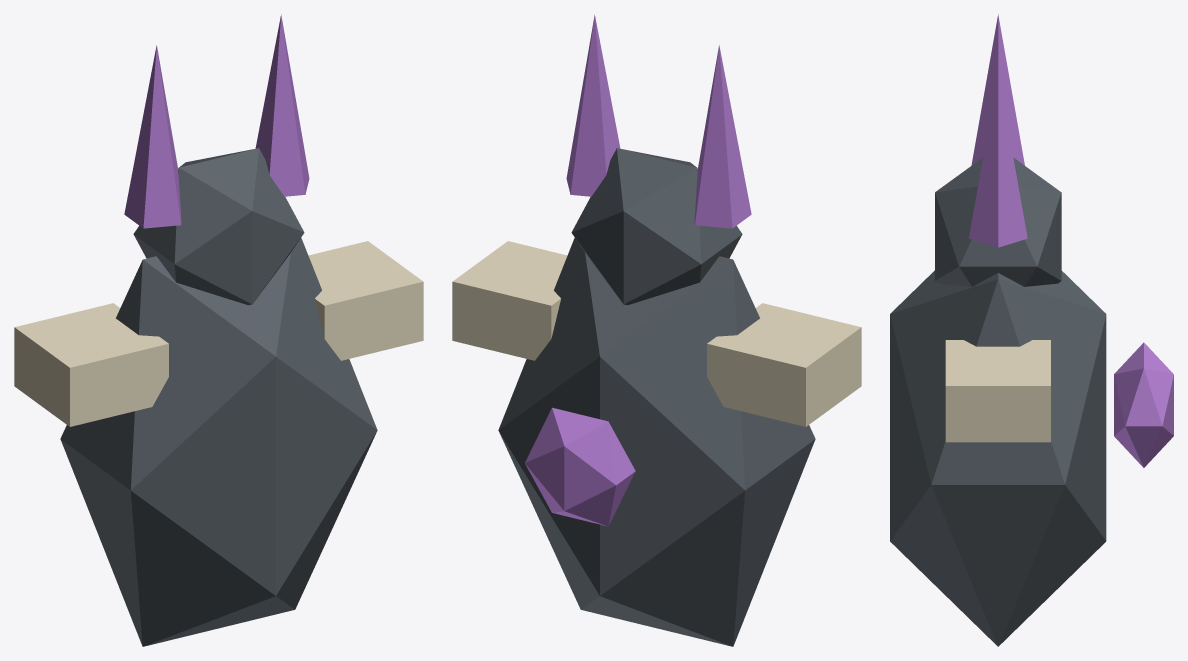
Rendered from enemy_elite.glb.
3 renders of one model, left to right at view 1: azimuth 30°, elevation 25°; view 2: azimuth 150°, elevation 25°; view 3: azimuth 270°, elevation 25°, orthographic. The views are drawn at different scales.
Parts seen in each view (by area): view 1: armor, head, pauldron_-1, pauldron_1, antler_-1, antler_1; view 2: armor, head, pauldron_-1, pauldron_1, chest_core, antler_-1, antler_1; view 3: armor, pauldron_1, head, chest_core, antler_1, antler_-1.
Part boxes in pixels (box(x1,y1,x2,y2)): armor: box(60, 238, 377, 646); head: box(133, 148, 304, 305); pauldron_-1: box(14, 303, 168, 426); pauldron_1: box(308, 241, 423, 360); antler_-1: box(124, 45, 181, 228); antler_1: box(255, 14, 309, 196); armor: box(498, 238, 815, 646); head: box(571, 148, 742, 305); pauldron_-1: box(707, 303, 861, 426); pauldron_1: box(452, 241, 567, 360); chest_core: box(525, 407, 635, 526); antler_-1: box(694, 45, 751, 228); antler_1: box(566, 14, 620, 196); armor: box(890, 270, 1106, 646); pauldron_1: box(945, 340, 1050, 442); head: box(935, 157, 1061, 286); chest_core: box(1114, 342, 1173, 467); antler_1: box(968, 72, 1027, 247); antler_-1: box(971, 14, 1024, 165).
Size of the model in its own units: 1.25 by 2.02 by 0.9161.
